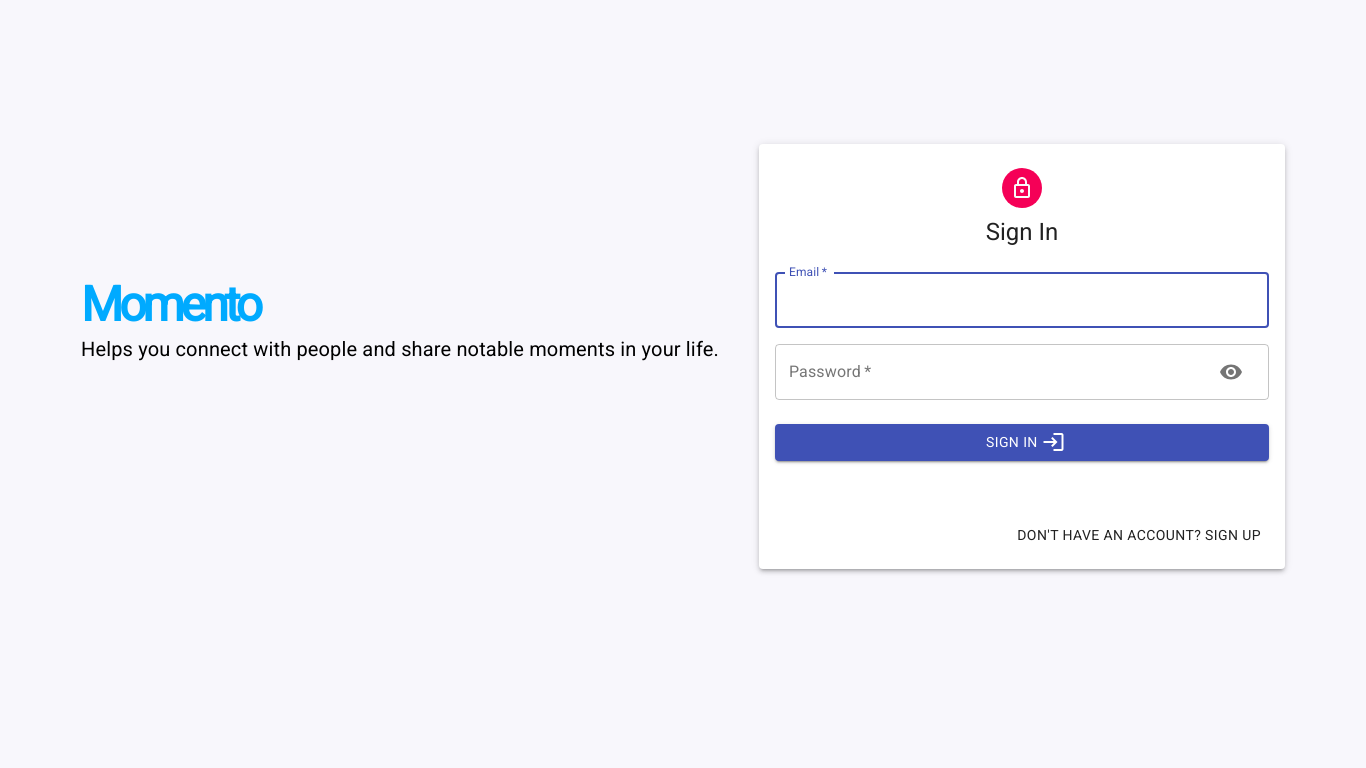
Scenario: renders sign up form when user click sign up button
Click the button "Don't have an account? Sign up": click(1139, 535) [1009, 516, 1269, 553]
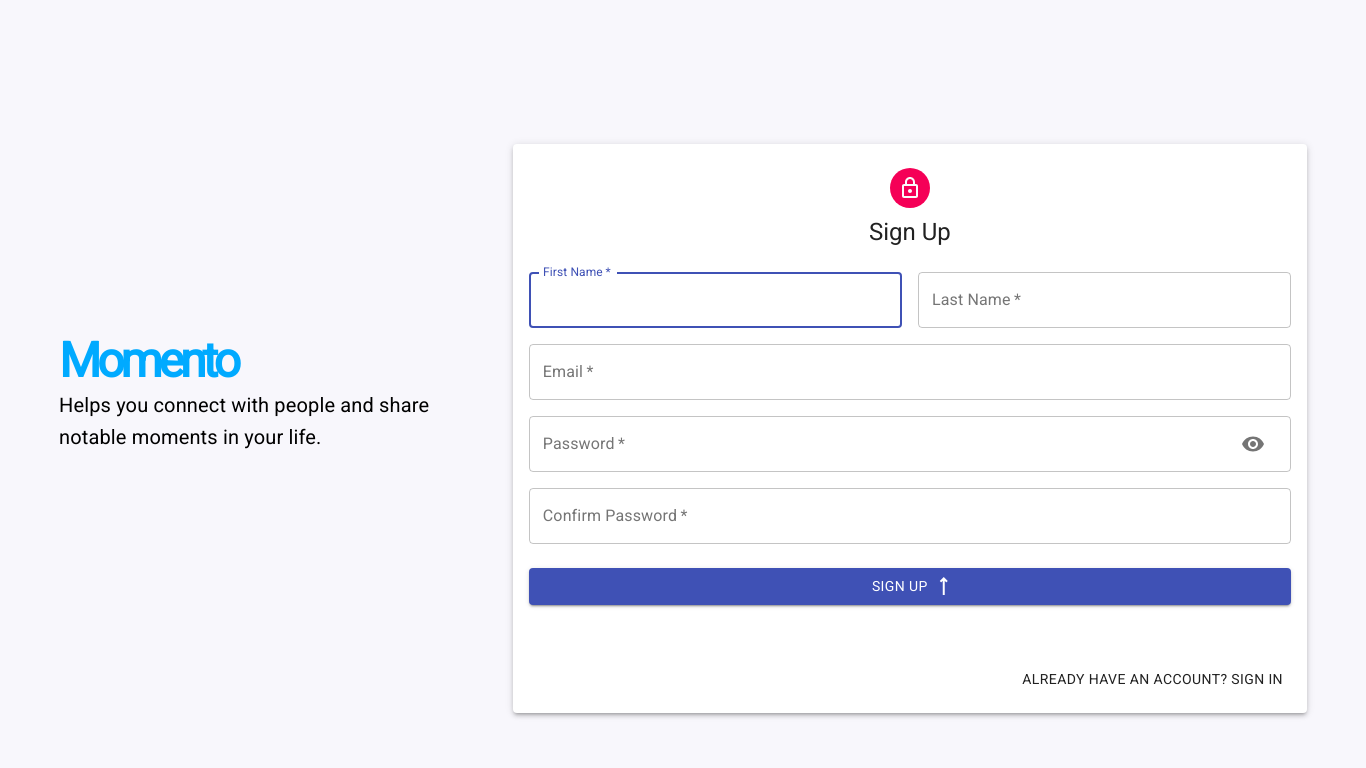
Check: the number of fields is 3, box [529, 272, 902, 328]; [918, 272, 1291, 328]; [529, 344, 1291, 400]
Check: the element with test id "mui-confirmpassword-field" is shown, box [529, 488, 1291, 544]
